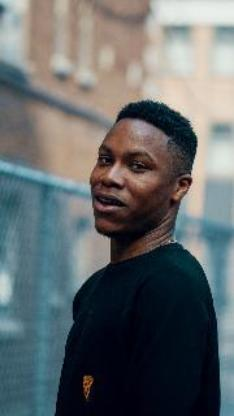person: (47, 93, 228, 416)
